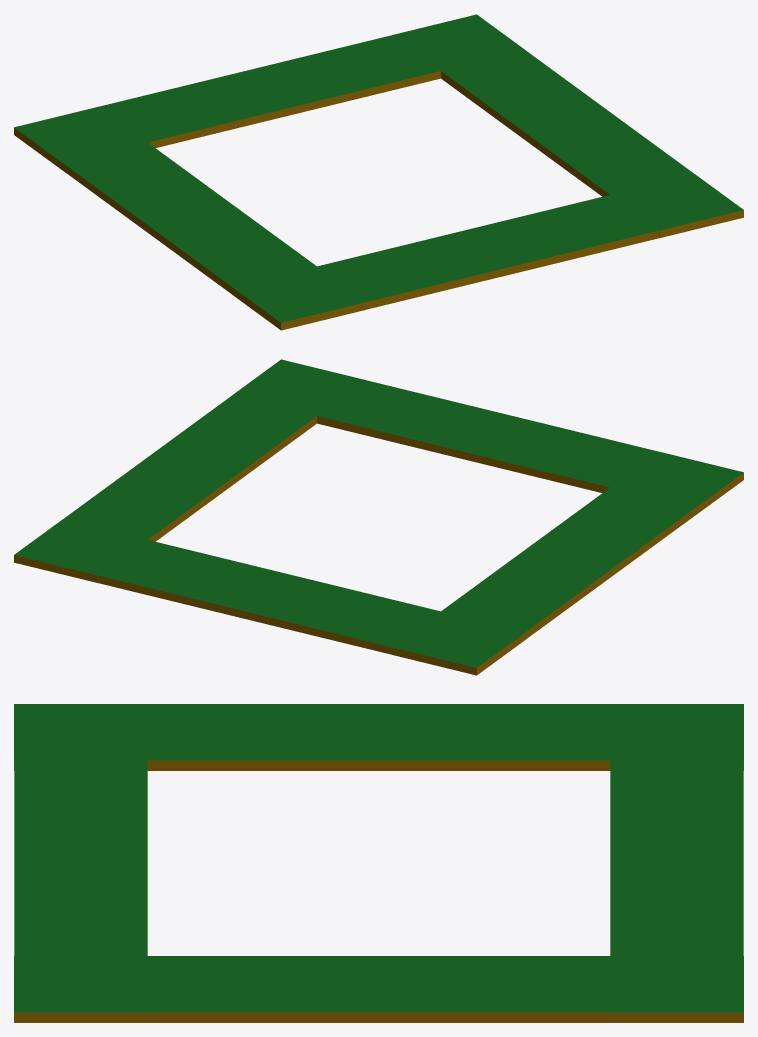
File: Yama.fbx
3 views of the same model, one above another, from view 1: azimuth 30°, elevation 25°; view 2: azimuth 150°, elevation 25°; view 3: azimuth 270°, elevation 25° (orthographic). The views are drawn at different scales.
Parts seen in each view (by area): view 1: Cube.005; view 2: Cube.005; view 3: Cube.005.
Boxes of the visible parts, x1=… form: Cube.005: x1=14, y1=14, x2=743, y2=330; Cube.005: x1=14, y1=359, x2=743, y2=675; Cube.005: x1=14, y1=704, x2=743, y2=1022.
Bounding box in the file's own units: 127 × 2 × 127.
